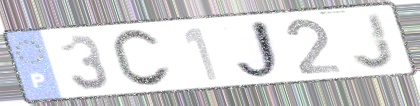1: (182, 26, 221, 82)
2: (284, 17, 347, 77)
3: (58, 33, 112, 93)
C: (108, 27, 174, 90)
J: (233, 19, 288, 82), (350, 11, 399, 71)
